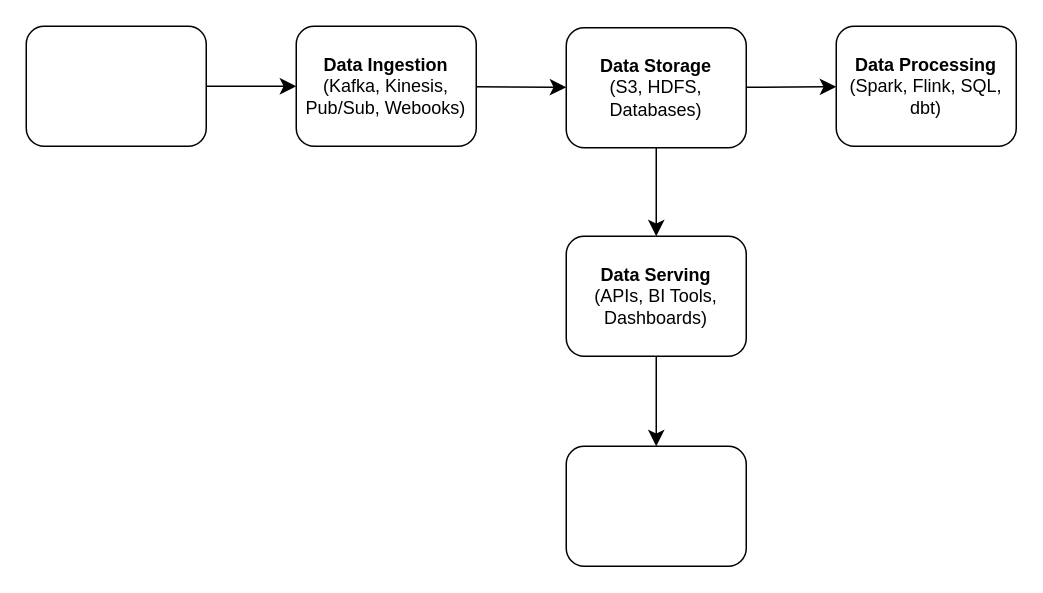
Image size: 1043x593. Some labels were removed from this diagram. Here are the shapes that lost their labels. From the top down, the box of each, then its label:
(25, 25, 206, 146): Data Sources (IoT Devices, Webhooks, APIs)
(565, 445, 746, 566): Monitoring & Orchestration (Airflow, Prefect)
